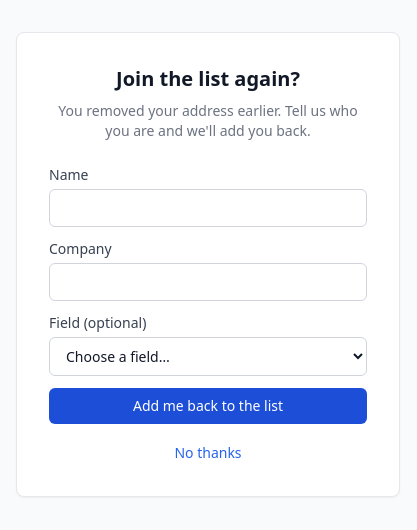
Test case: EmployerLeadRejoin › does nothing on load and requires name and company
What coordinates should you click on to do the following:
click the button "Add me back to the list"
I would click on:
 (208, 406)
Its box is [49, 388, 367, 424].
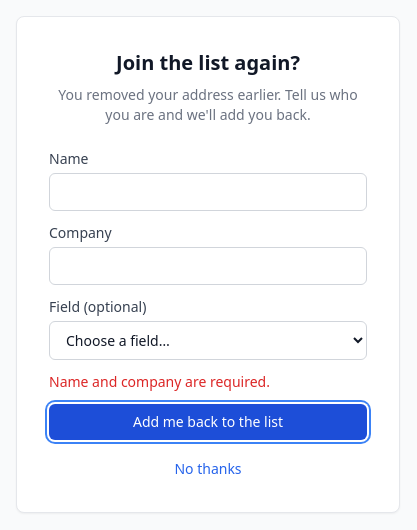
Now the message reads "Name and company are required.", box [49, 372, 270, 390]
